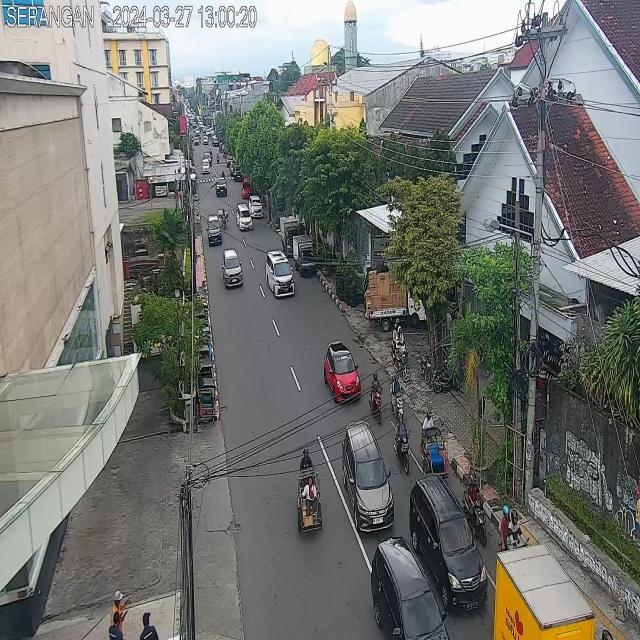car: (410, 473, 488, 611), (369, 531, 451, 640), (341, 418, 396, 536), (323, 338, 360, 405), (266, 250, 294, 296), (222, 248, 244, 288), (236, 204, 253, 230), (208, 215, 222, 246), (248, 195, 264, 218), (216, 178, 227, 197), (242, 182, 252, 198)
motorcycle: (462, 472, 488, 548), (496, 503, 531, 554), (394, 414, 412, 474), (368, 372, 384, 424), (390, 374, 404, 422), (219, 207, 229, 228)
truck: (493, 547, 595, 640), (281, 219, 303, 256), (293, 236, 315, 271)
